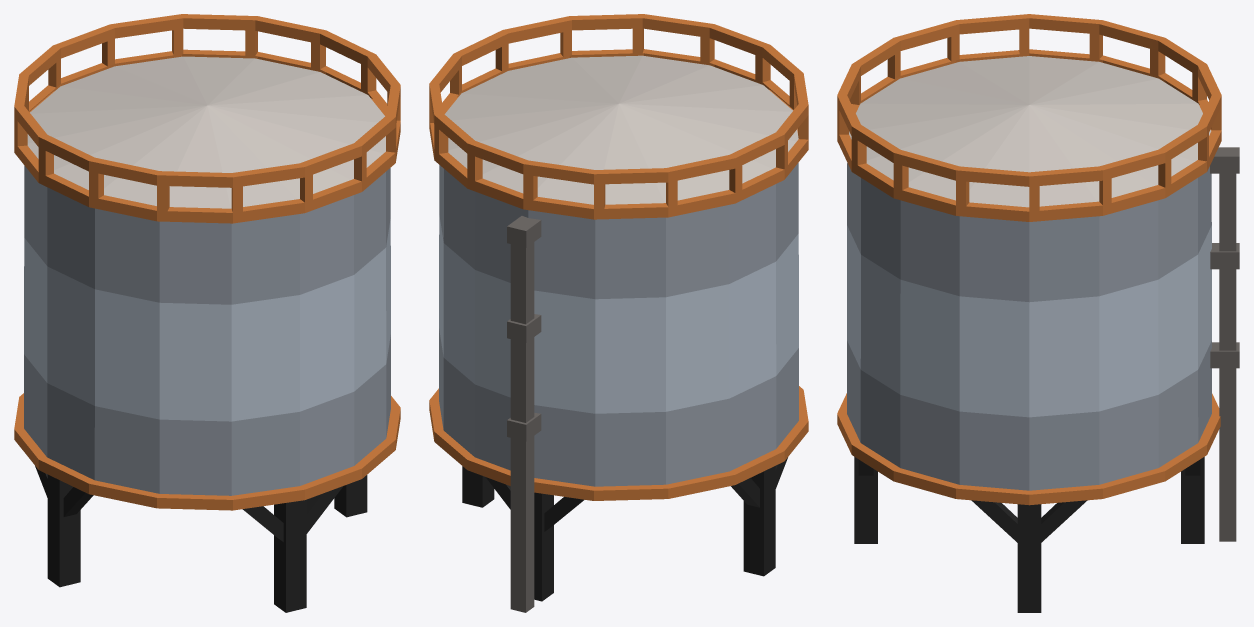
Rendered from OilCan002.fbx.
The picture shows the model from 3 angles, left to right: view 1: azimuth 30°, elevation 25°; view 2: azimuth 150°, elevation 25°; view 3: azimuth 270°, elevation 25°; orthographic projection.
Visible parts, largest first — view 1: Oilcan002; view 2: Oilcan002; view 3: Oilcan002.
Part boxes in pixels (left/top/right/bottom): Oilcan002: left=14, top=14, right=400, bottom=612; Oilcan002: left=429, top=14, right=808, bottom=612; Oilcan002: left=837, top=14, right=1239, bottom=612.
Size of the model in its own units: 368 by 469 by 386.
